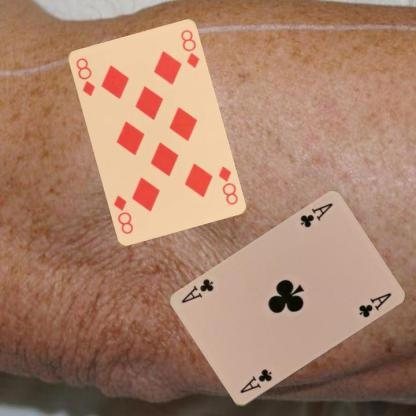8d: (216, 164, 240, 206), (73, 55, 96, 98)
Ac: (297, 201, 335, 230), (237, 366, 273, 396)
